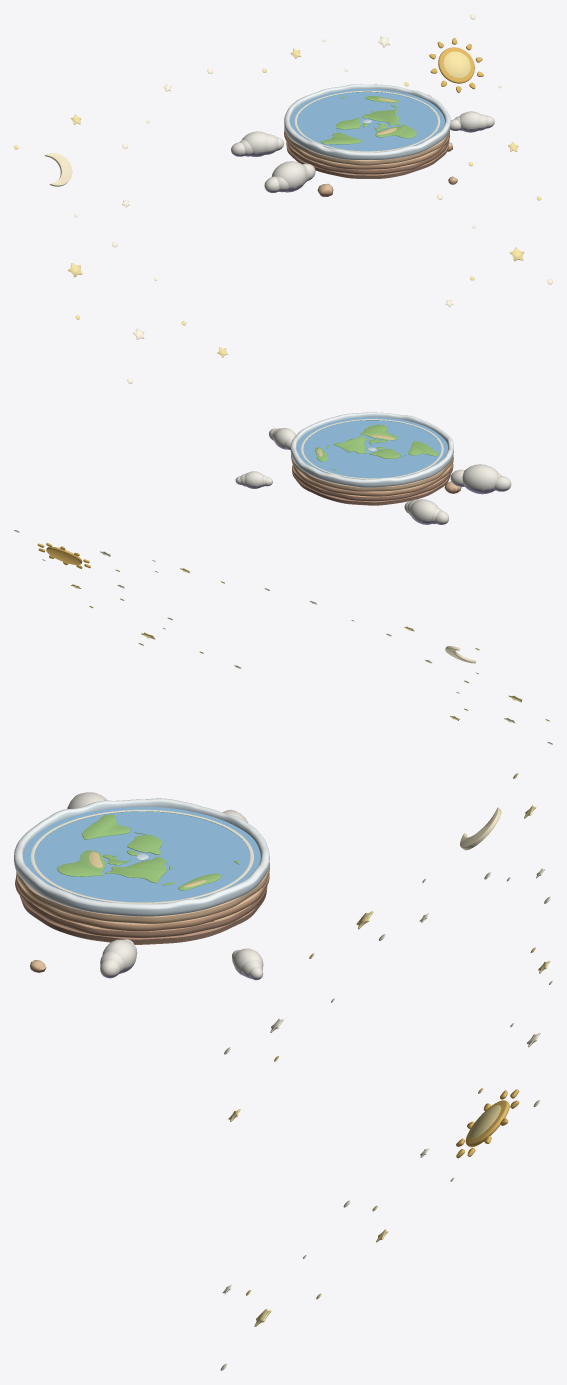
File: earth_kit.glb
The picture shows the model from 3 angles, top to bottom: view 1: azimuth 30°, elevation 25°; view 2: azimuth 150°, elevation 25°; view 3: azimuth 270°, elevation 25°; orthographic projection. The views are drawn at different scales.
Parts seen in each view (by area): view 1: SPIN_Earth, DISC_Crust, DISC_IceWall, SPACE_Sun, SPACE_Cloud_01, SPACE_Cloud_03, SPACE_Cloud_02, SPACE_Moon; view 2: SPIN_Earth, DISC_Crust, DISC_IceWall, SPACE_Cloud_01, SPACE_Cloud_03, SPACE_Sun, SPACE_Cloud_04, SPACE_Cloud_02; view 3: SPIN_Earth, DISC_Crust, DISC_IceWall, SPACE_Sun, SPACE_Cloud_02, SPACE_Cloud_04.
Part boxes in pixels (left/top/right/bottom): SPIN_Earth: left=290, top=89, right=444, bottom=152; DISC_Crust: left=284, top=126, right=450, bottom=178; DISC_IceWall: left=284, top=84, right=450, bottom=159; SPACE_Sun: left=429, top=38, right=483, bottom=92; SPACE_Cloud_01: left=264, top=161, right=315, bottom=192; SPACE_Cloud_03: left=231, top=131, right=283, bottom=156; SPACE_Cloud_02: left=450, top=111, right=494, bottom=132; SPACE_Moon: left=45, top=153, right=72, bottom=186; SPIN_Earth: left=296, top=417, right=447, bottom=479; DISC_Crust: left=291, top=454, right=453, bottom=505; DISC_IceWall: left=290, top=412, right=453, bottom=487; SPACE_Cloud_01: left=450, top=464, right=511, bottom=494; SPACE_Cloud_03: left=404, top=499, right=448, bottom=524; SPACE_Sun: left=37, top=542, right=90, bottom=568; SPACE_Cloud_04: left=235, top=471, right=272, bottom=488; SPACE_Cloud_02: left=269, top=428, right=295, bottom=449; SPIN_Earth: left=23, top=807, right=260, bottom=903; DISC_Crust: left=15, top=863, right=269, bottom=944; DISC_IceWall: left=14, top=798, right=269, bottom=916; SPACE_Sun: left=456, top=1089, right=519, bottom=1158; SPACE_Cloud_02: left=100, top=939, right=137, bottom=978; SPACE_Cloud_04: left=232, top=948, right=263, bottom=980.
Bounding box in the file's own units: 35.1 × 16.79 × 22.59.
Materials: 1 (1 with a texture image).
